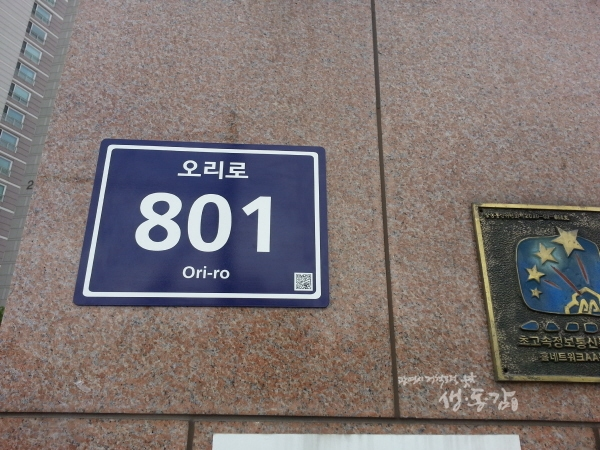building_license_plate2: (73, 138, 329, 307)
